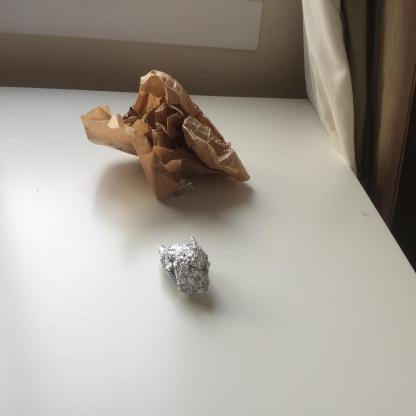kagit: (79, 70, 252, 204)
metal: (156, 234, 212, 304)
